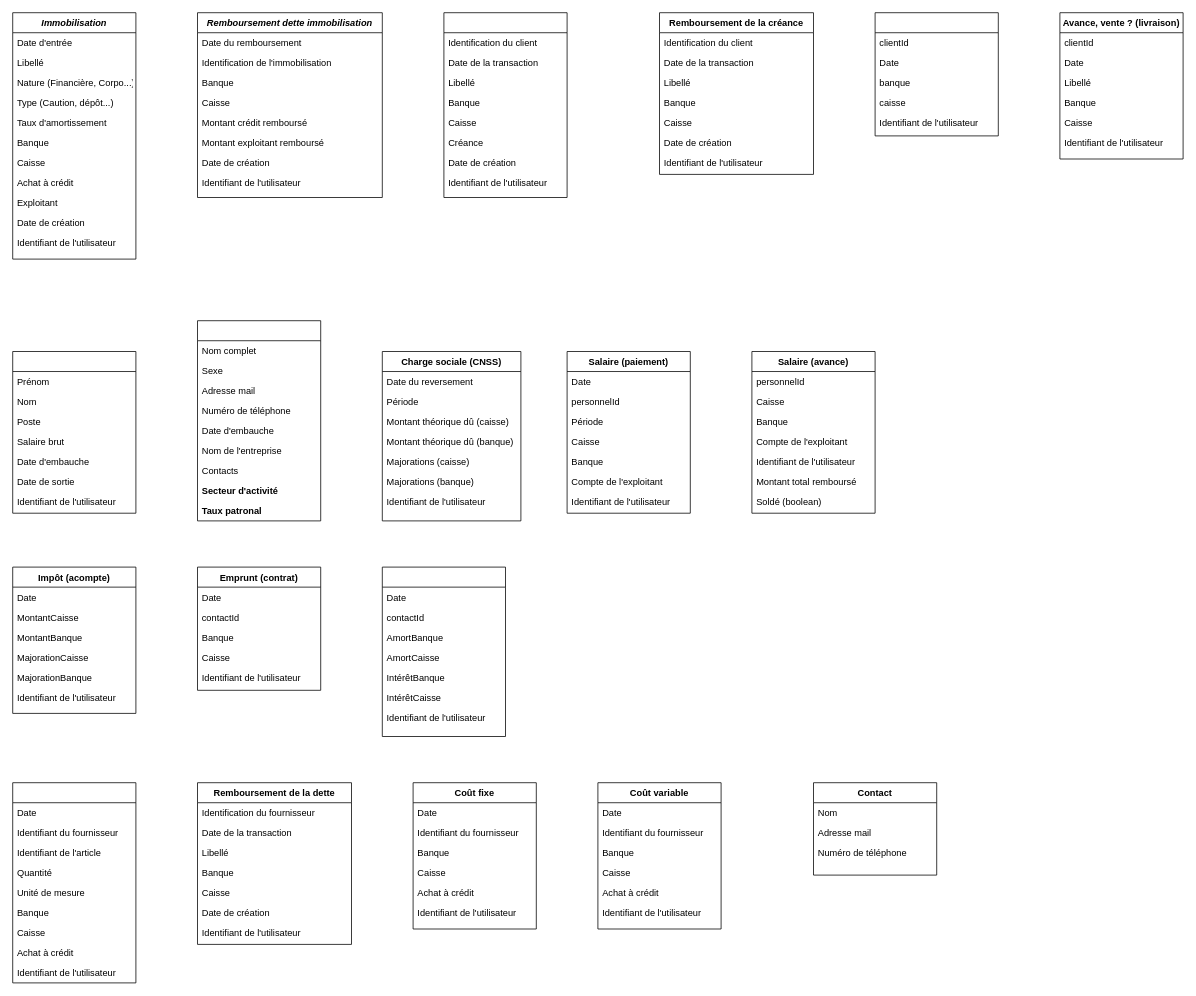
This 1196x996 diagram has some shape labels left out. Here are the shapes that lost their labels. From the top down, the box of each, then its label:
(874, 12, 998, 136): Avance (client)
(443, 12, 567, 198): Ventes et prestations
(12, 351, 136, 513): Personnel
(197, 320, 321, 521): Utilisateur (entreprise)
(382, 566, 506, 737): Emprunt (remboursement)
(12, 782, 136, 983): Approvisionnement
